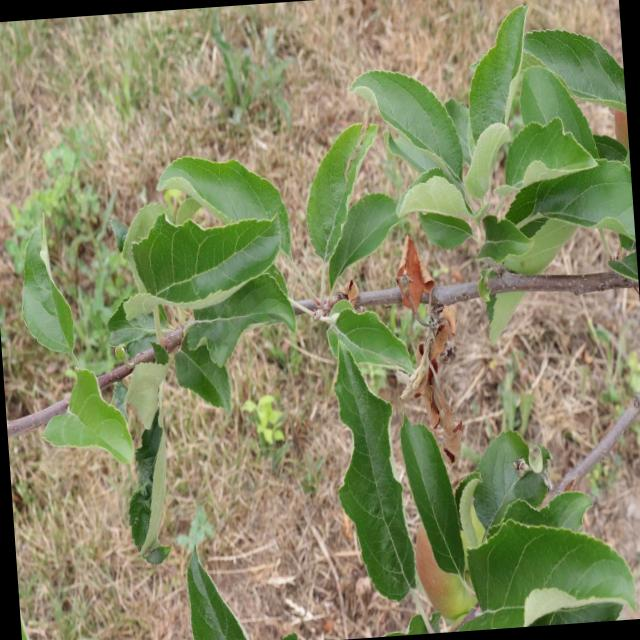-FireBlight-: (384, 237, 466, 465)
